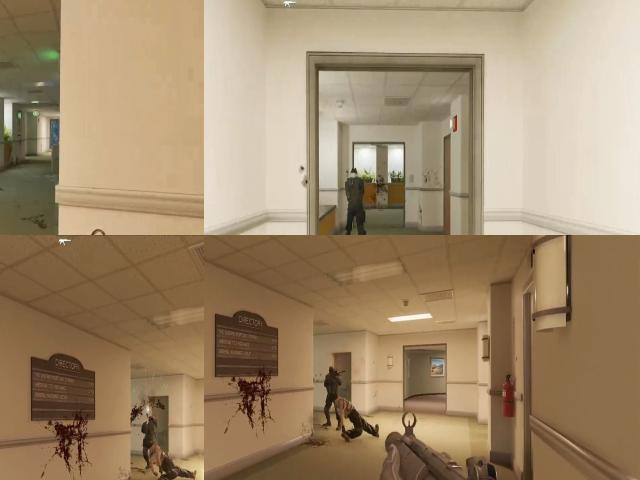CT: (344, 163, 369, 218), (324, 364, 340, 420)
CT-Head: (138, 411, 158, 463), (348, 166, 362, 182), (329, 365, 337, 378)
Dead: (329, 390, 378, 444)
